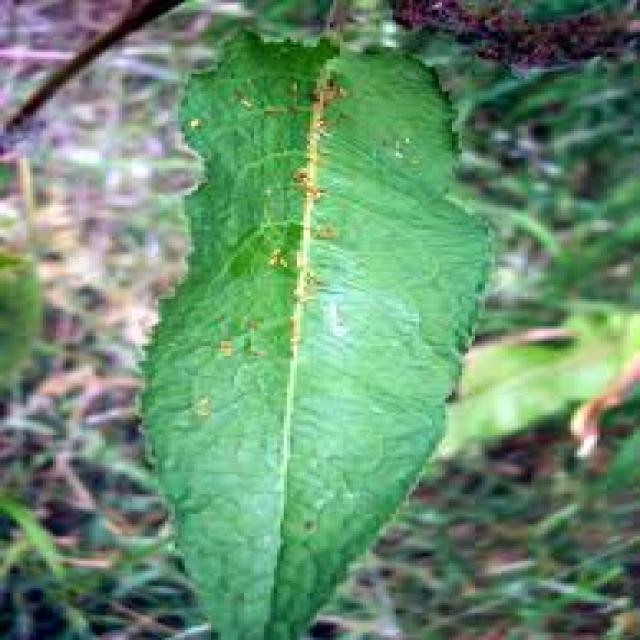organic waste: (106, 0, 512, 640)
